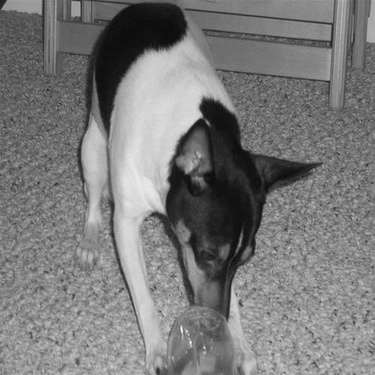dog: (54, 1, 328, 374)
